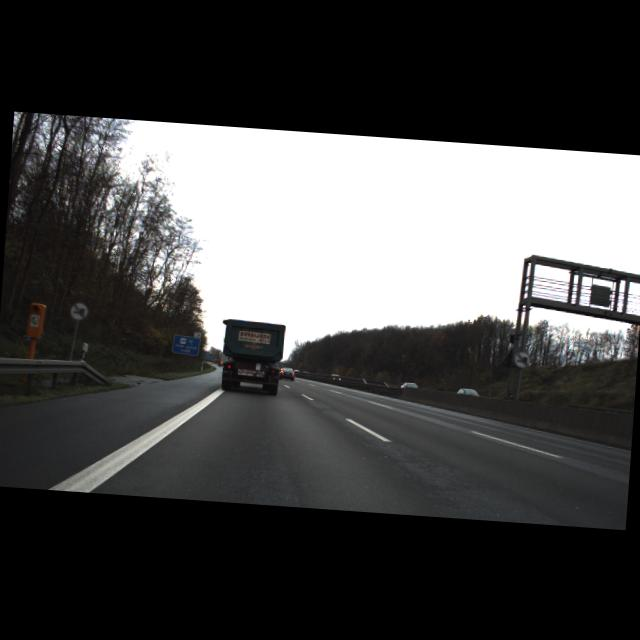other: (69, 300, 89, 320), (514, 350, 532, 368)
